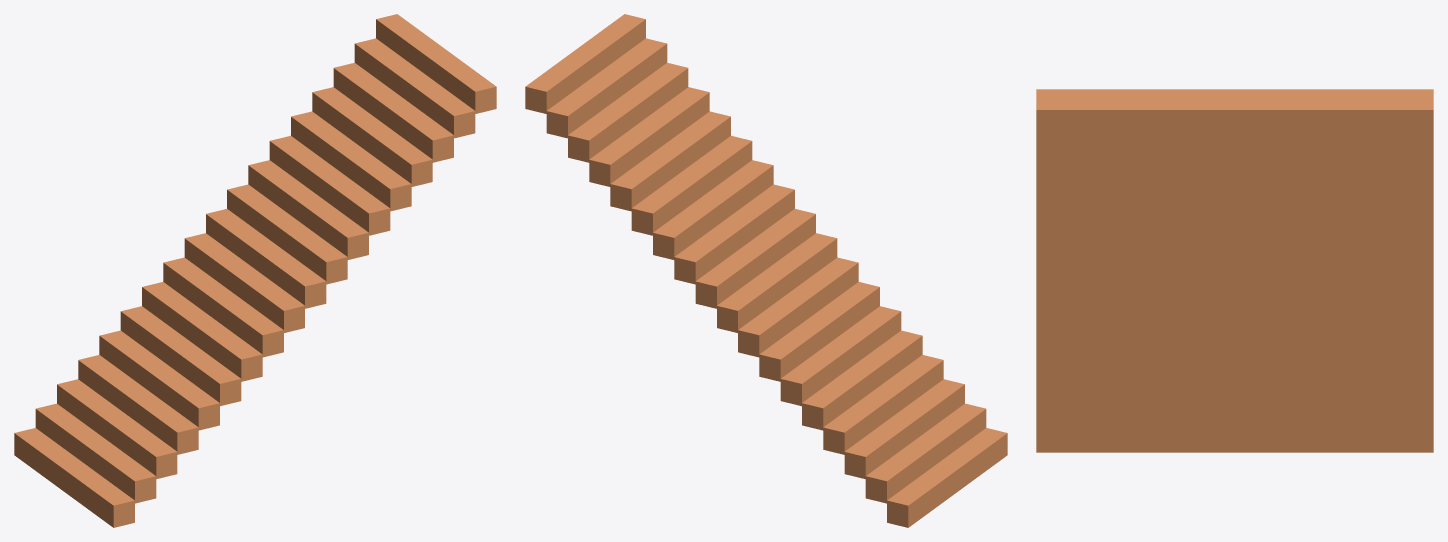
Rendered from Ladder.fbx.
3 renders of one model, left to right at view 1: azimuth 30°, elevation 25°; view 2: azimuth 150°, elevation 25°; view 3: azimuth 270°, elevation 25°, orthographic. The views are drawn at different scales.
Parts seen in each view (by area): view 1: Ladder; view 2: Ladder; view 3: Ladder.
Boxes of the visible parts, bbox=[...] form: Ladder: bbox=[14, 14, 496, 527]; Ladder: bbox=[525, 14, 1007, 527]; Ladder: bbox=[1036, 89, 1433, 452].
Bounding box in the file's own units: 444 × 386 × 200.
